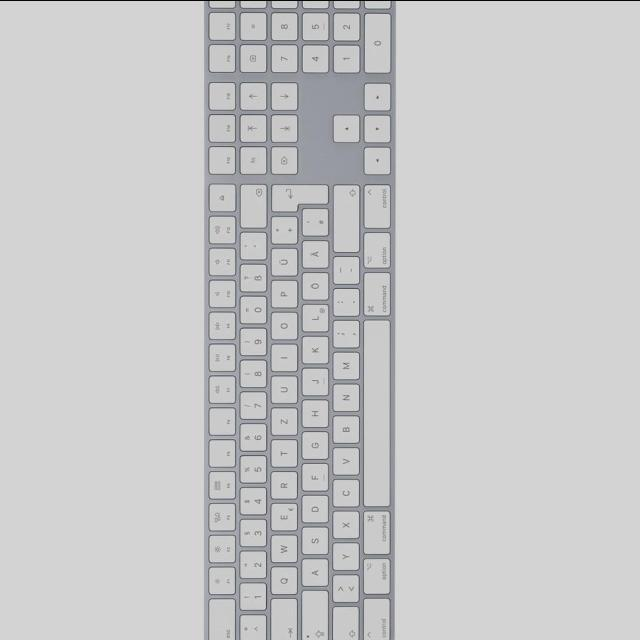0: (237, 297, 265, 326)
1: (237, 584, 265, 613)
2: (237, 552, 265, 581)
3: (237, 520, 265, 549)
4: (237, 489, 265, 517)
5: (237, 456, 265, 485)
6: (237, 425, 265, 453)
7: (237, 393, 265, 421)
8: (237, 361, 265, 389)
9: (237, 329, 265, 358)
a: (299, 560, 327, 588)
accent: (237, 233, 265, 262)
ae: (299, 241, 327, 270)
alt-left: (361, 558, 389, 596)
altgr-right: (361, 233, 390, 271)
b: (330, 416, 358, 445)
c: (330, 480, 358, 509)
caret: (237, 616, 265, 640)
comma: (330, 321, 358, 350)
d: (299, 497, 327, 525)
del: (237, 185, 265, 231)
e: (268, 505, 296, 533)
enter: (269, 183, 329, 213)
f: (299, 465, 327, 493)
g: (299, 433, 327, 461)
h: (299, 401, 327, 430)
hash: (299, 209, 327, 238)
i: (268, 345, 296, 373)
j: (299, 370, 327, 398)
k: (299, 338, 327, 366)
keyboard: (201, 0, 398, 640)
l: (299, 306, 327, 334)
less: (329, 576, 357, 605)
m: (330, 353, 358, 382)
minus: (331, 258, 358, 286)
n: (330, 385, 358, 414)
o: (268, 313, 296, 342)
oe: (299, 274, 327, 302)
p: (268, 282, 296, 310)
plus: (268, 217, 296, 246)
point: (330, 289, 358, 318)
q: (268, 568, 296, 597)
r: (268, 473, 296, 501)
s: (299, 528, 327, 556)
shift-left: (330, 608, 358, 640)
shift-lock: (298, 591, 327, 640)
shift-right: (330, 185, 358, 254)
space: (360, 321, 390, 509)
ss: (237, 265, 265, 294)
strg-left: (361, 598, 390, 640)
strg-right: (362, 184, 391, 231)
t: (268, 441, 296, 469)
tab: (268, 600, 296, 640)
u: (268, 377, 297, 406)
ue: (268, 249, 296, 278)
v: (330, 447, 358, 477)
w: (268, 537, 296, 565)
x: (330, 512, 358, 541)
y: (330, 544, 357, 573)
z: (268, 409, 296, 438)
